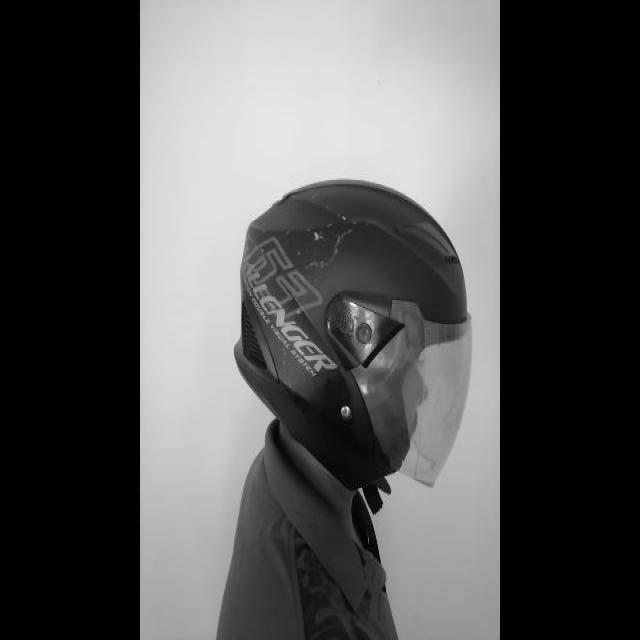5_casco: (233, 179, 473, 501)
